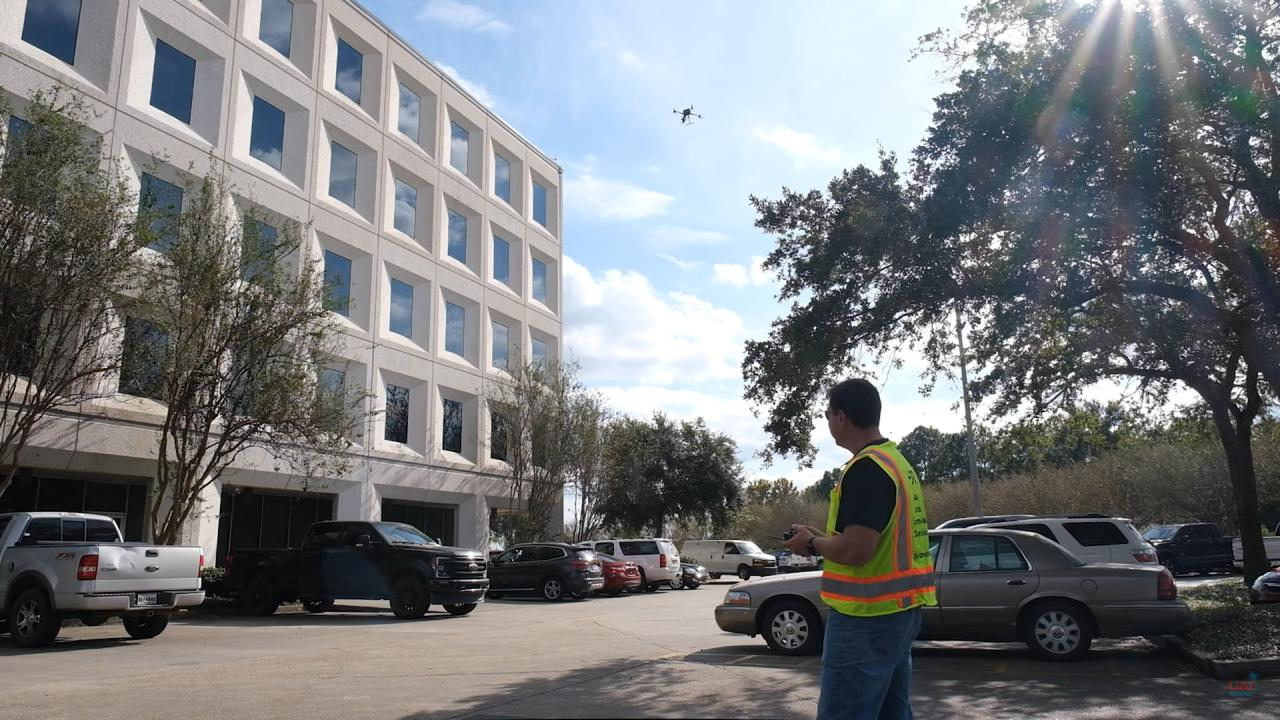Drone: (665, 95, 709, 132)
